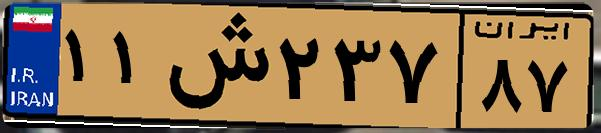1: (57, 26, 110, 100), (110, 28, 158, 98)
2: (270, 28, 330, 110)
3: (330, 28, 385, 110)
7: (385, 28, 445, 110), (525, 38, 570, 115)
8: (475, 38, 525, 113)
ش: (158, 12, 270, 120)
